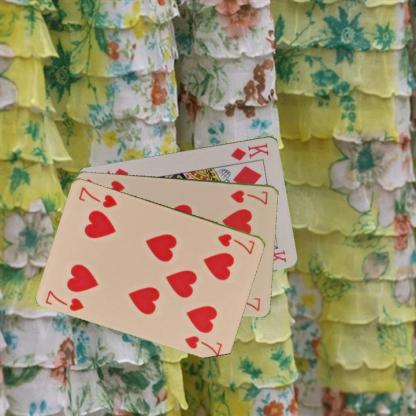7h: (44, 287, 86, 313), (215, 231, 256, 256), (228, 187, 269, 206)
Kd: (228, 140, 271, 162)
